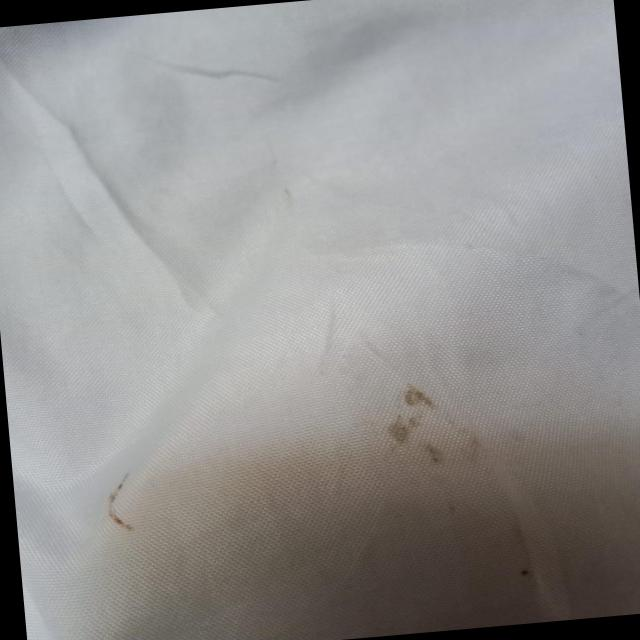stain: (369, 366, 493, 484), (94, 466, 150, 536), (506, 559, 555, 584)
